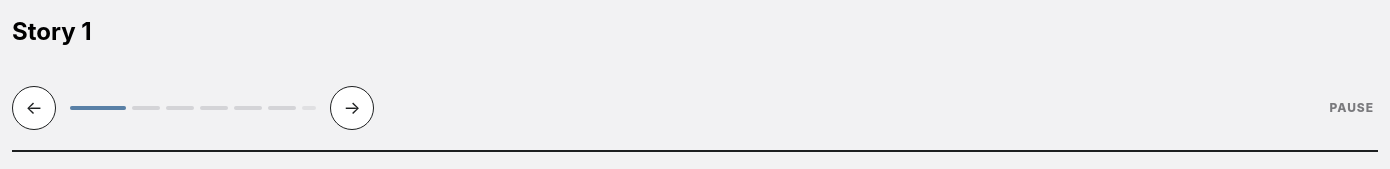
it: LeadCarousel with more leads than dashes › wrapping to the last story puts its dash at the end of the window
The image size is (1390, 169).
Click the button named "Previous lead story" at {"x": 34, "y": 108}, box x1=12 y1=86 x2=56 y2=130
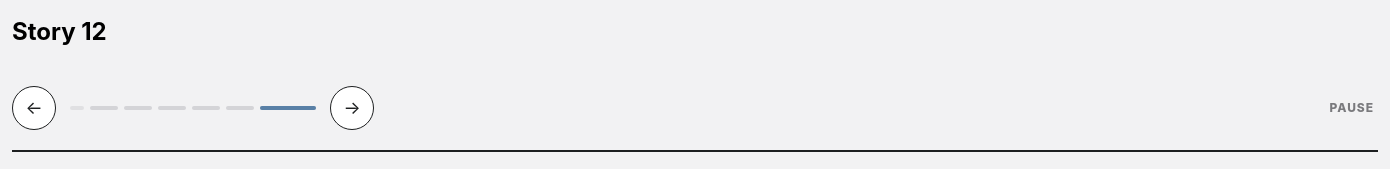
Expected: the element with class "is-active" reads "Story 12", x1=12 y1=17 x2=107 y2=46
